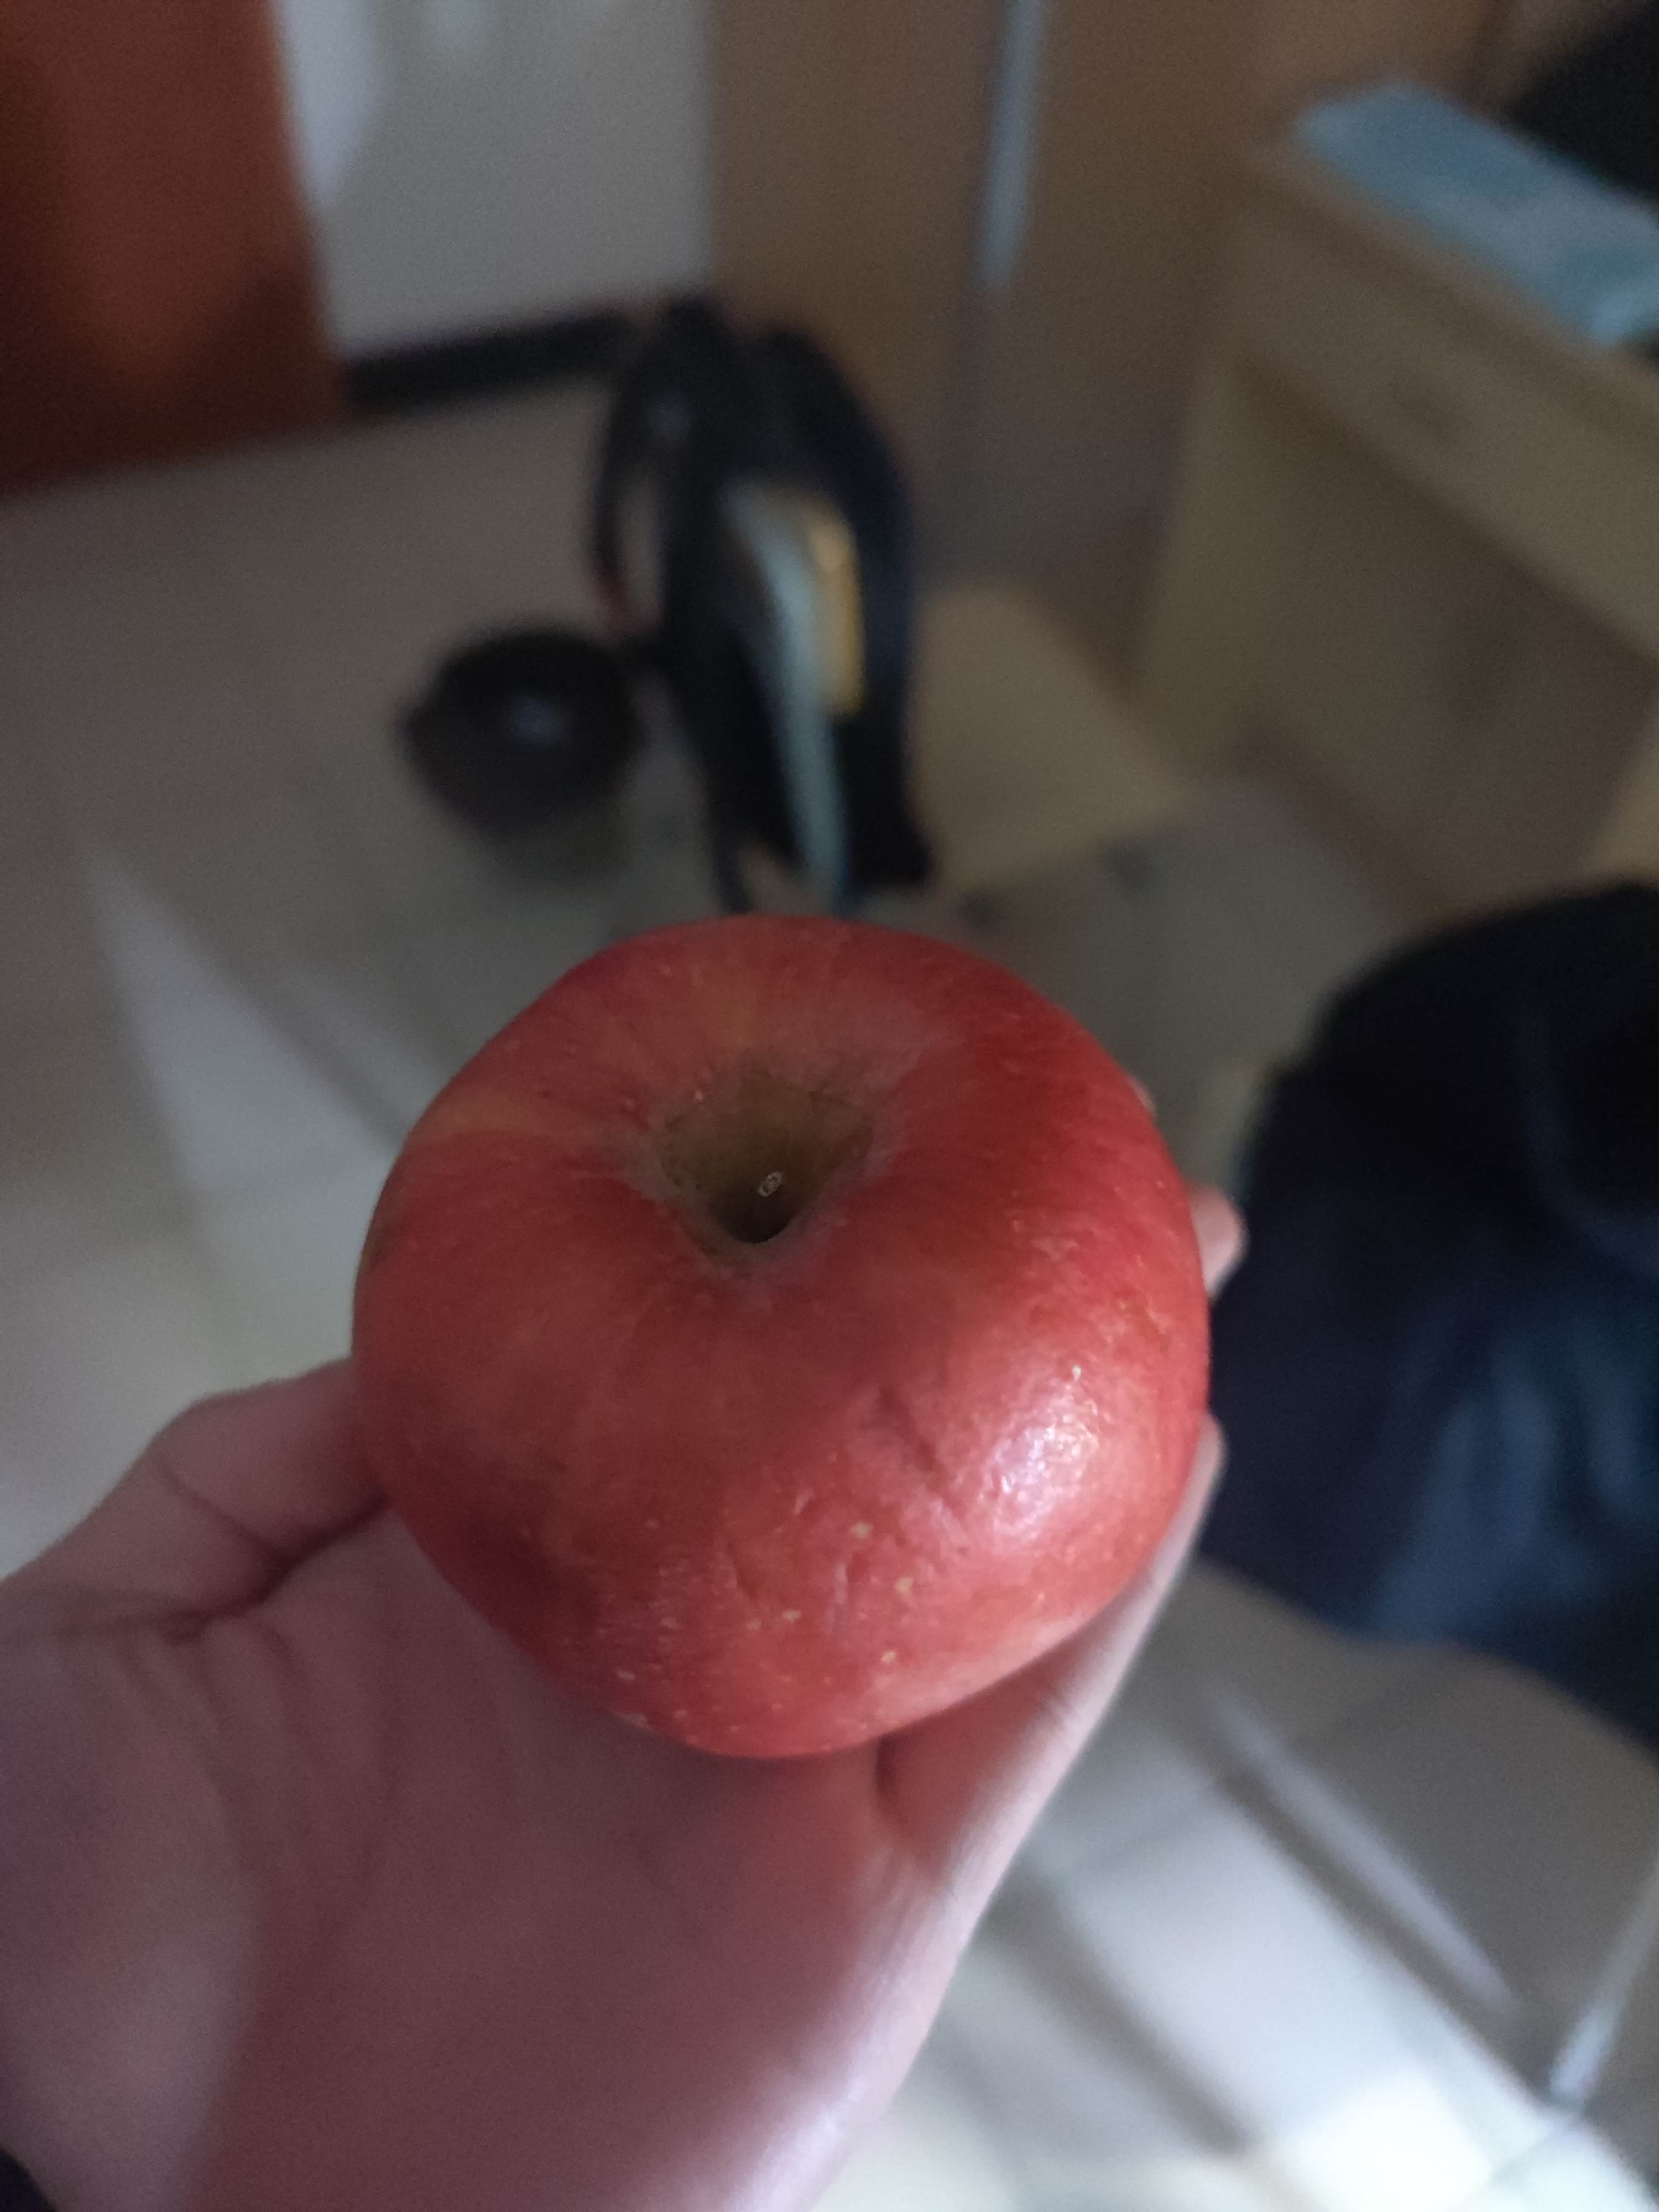apple: (333, 911, 1202, 1750)
